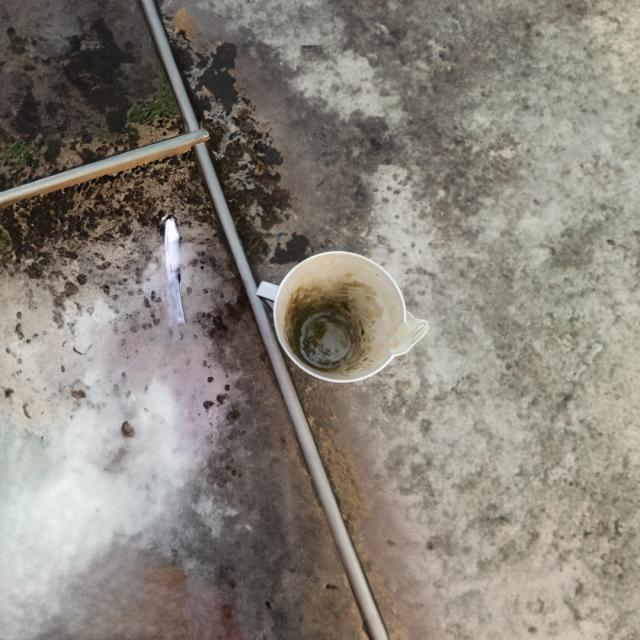Breeding Place: (240, 233, 449, 411)
